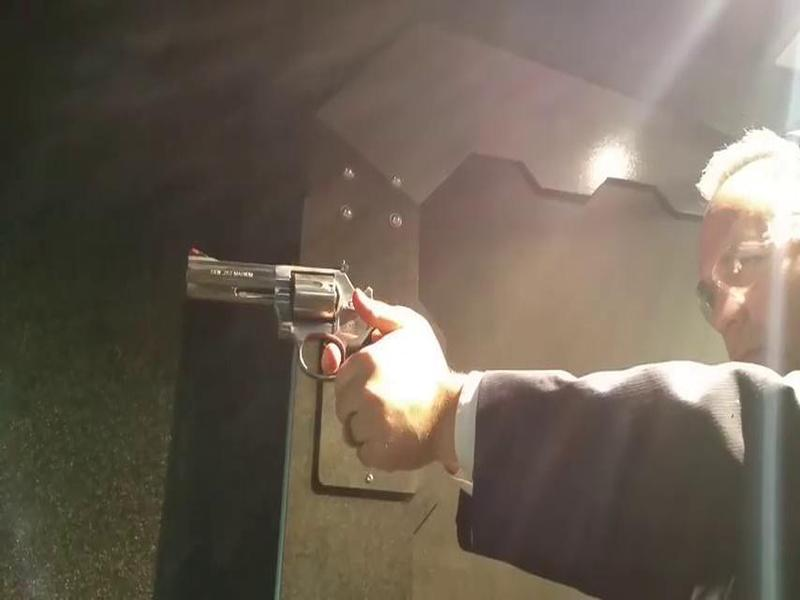Revolver: (150, 234, 419, 424)
